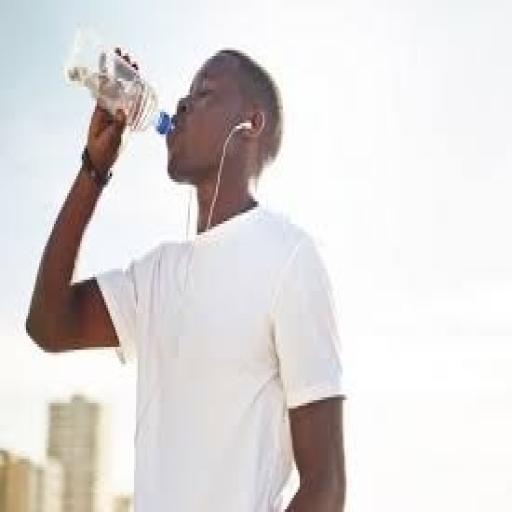drinking: (63, 42, 173, 137)
